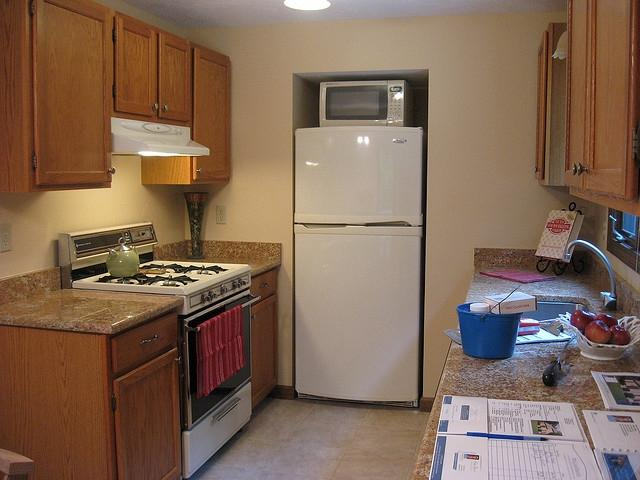apple: (584, 320, 612, 344), (570, 310, 596, 332), (608, 325, 631, 345), (595, 314, 618, 328)
